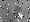person: (13, 7, 22, 21)
